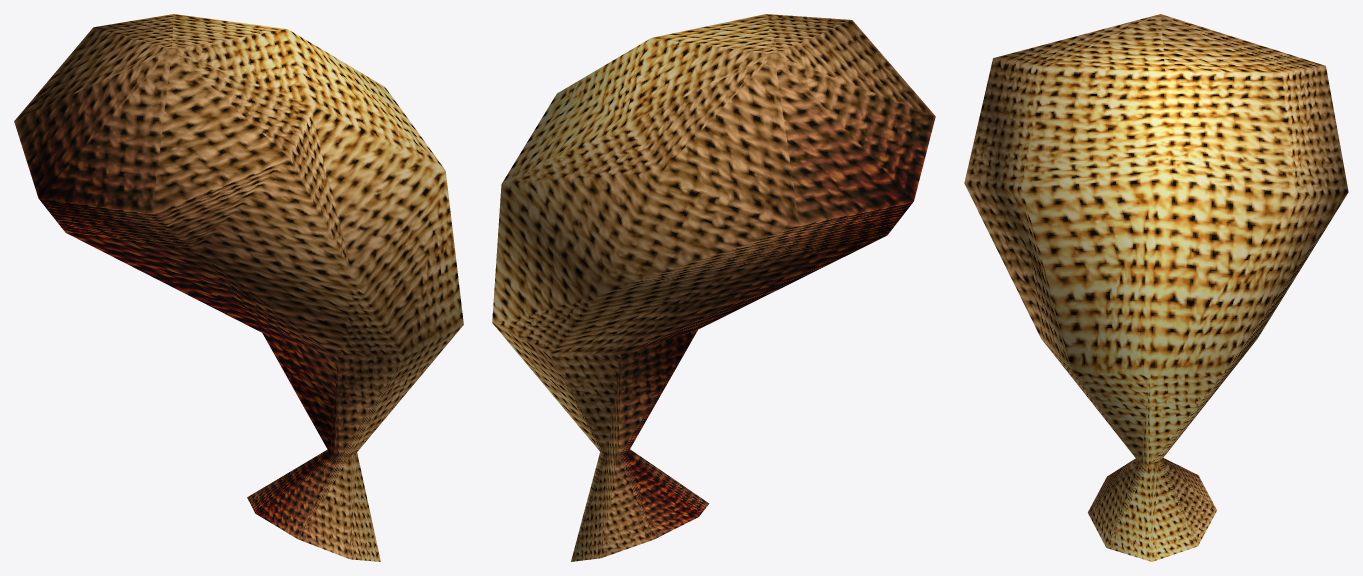
The model's file is bag02.FBX.
3 renders of one model, left to right at view 1: azimuth 30°, elevation 25°; view 2: azimuth 150°, elevation 25°; view 3: azimuth 270°, elevation 25°, orthographic. The views are drawn at different scales.
Visible parts, largest first — view 1: bag02; view 2: bag02; view 3: bag02.
Part boxes in pixels (x1,y1,x2,y2): bag02: [14, 14, 463, 561]; bag02: [492, 14, 935, 561]; bag02: [964, 14, 1348, 561].
Size of the model in its own units: 0.6129 by 0.6102 by 0.8157.
